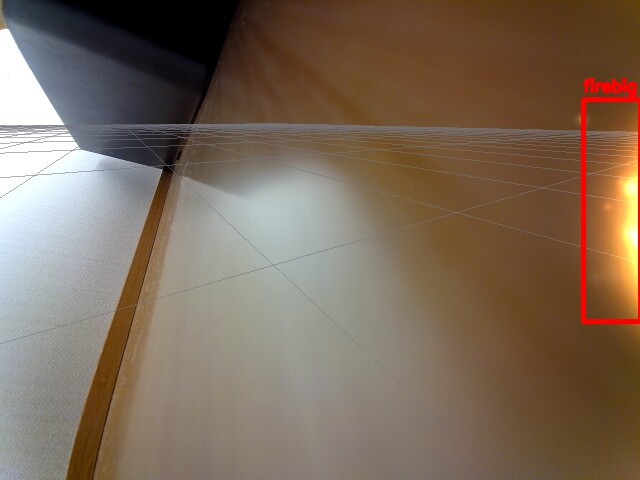firebig: (583, 99, 640, 321)
